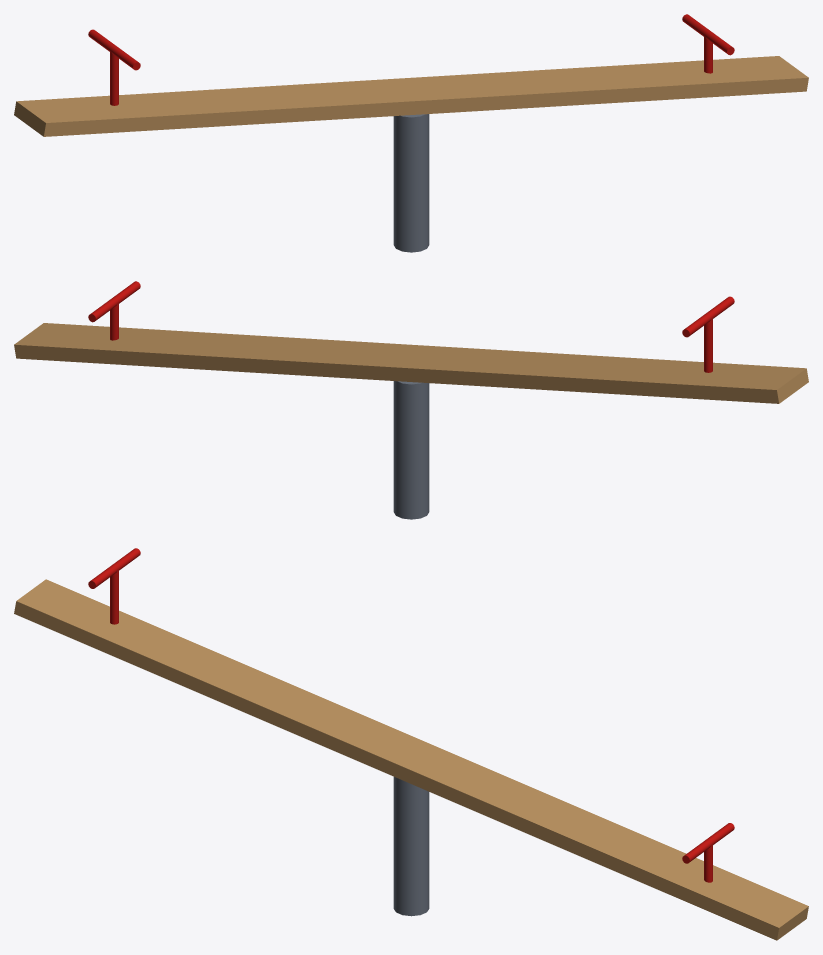
File: school.play.seesaw.glb
3 renders of one model, top to bottom at view 1: azimuth 30°, elevation 25°; view 2: azimuth 150°, elevation 25°; view 3: azimuth 330°, elevation 25°, orthographic.
Visible parts, largest first — view 1: main__softwood, main__steel_painted, main__plastic_red; view 2: main__softwood, main__steel_painted, main__plastic_red; view 3: main__softwood, main__steel_painted, main__plastic_red.
Part boxes in pixels (bbox=[...]): main__softwood: bbox=[14, 56, 808, 136]; main__steel_painted: bbox=[393, 114, 429, 252]; main__plastic_red: bbox=[88, 14, 734, 105]; main__softwood: bbox=[14, 323, 808, 403]; main__steel_painted: bbox=[393, 381, 429, 519]; main__plastic_red: bbox=[88, 281, 734, 372]; main__softwood: bbox=[14, 579, 808, 940]; main__steel_painted: bbox=[393, 777, 429, 916]; main__plastic_red: bbox=[88, 548, 734, 882].
Size of the model in its own units: 2.96 by 1 by 0.3.
